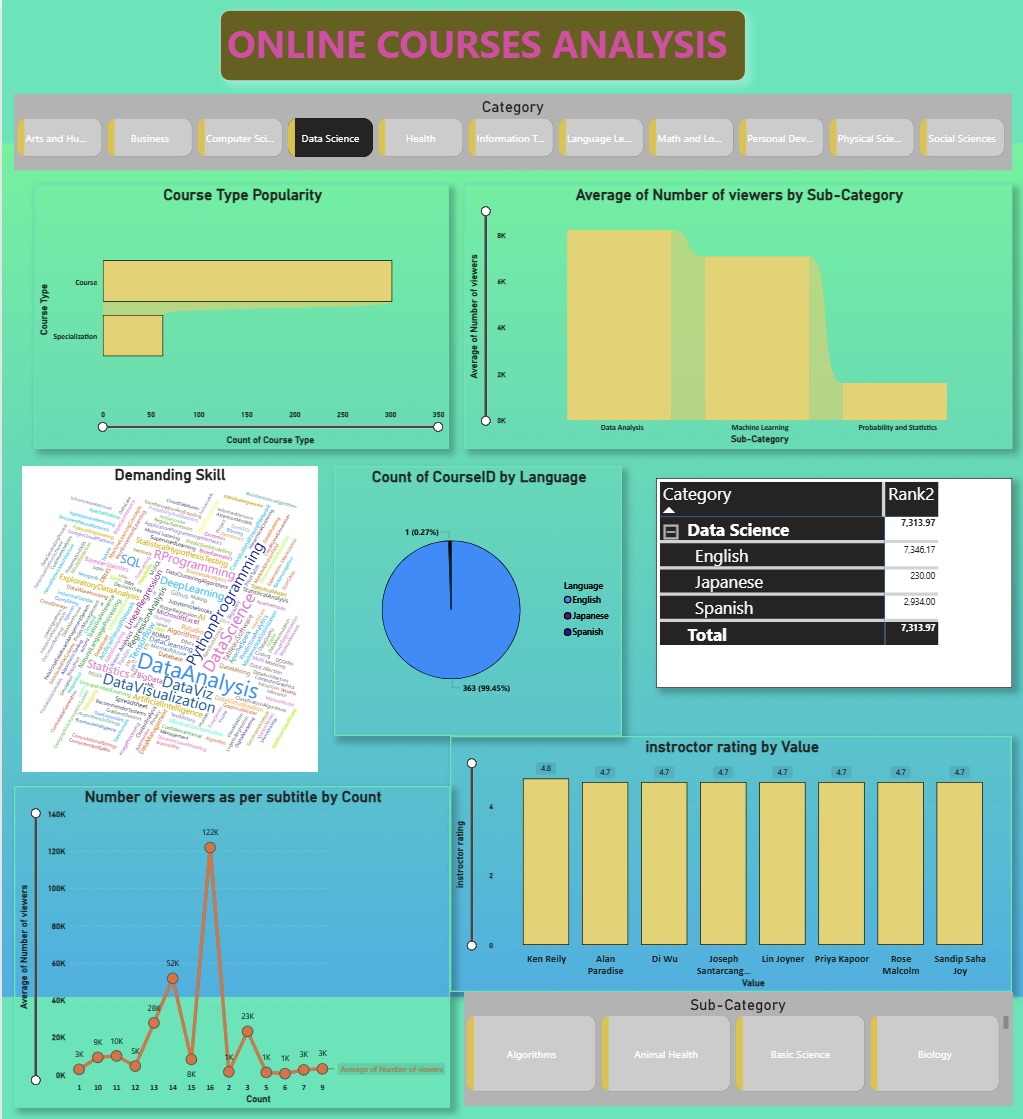

What the dashboard file says about the page in this screenshot:
{"tool":"powerbi","page":{"name":"Page 1","canvas":[1600,1800],"ordinal":0},"visuals":[{"type":"textbox","box":[339.1,17.4,821.7,110.9],"z":0},{"type":"advancedSlicerVisual","fields":{"Values":["Online_Courses.Category"]},"box":[18.9,148.6,1559.5,118.9],"z":1000},{"type":"barChart","title":"Course Type Popularity","fields":{"Y":["CountNonNull(Online_Courses.Course Type)"],"Category":["Online_Courses.Course Type"]},"box":[48.6,291.9,648.6,413.5],"z":2000},{"type":"columnChart","fields":{"Category":["Online_Courses.Sub-Category","Online_Courses.Language"],"Y":["Avg(Online_Courses.Number of viewers)"]},"box":[721.6,291.9,856.8,413.5],"z":3000},{"type":"WordCloud1447959067750","title":"Demanding Skill","fields":{"Category":["Online_Courses.Skills"]},"box":[31.2,731.2,462.5,478.1],"z":4000},{"type":"pieChart","fields":{"Category":["Online_Courses.Language"],"Y":["CountNonNull(Online_Courses.CourseID)"]},"box":[518.8,731.2,450,421.9],"z":5000},{"type":"pivotTable","fields":{"Rows":["Online_Courses.Category","Online_Courses.Language"],"Values":["Online_Courses.Rank2"]},"box":[1021.9,750,556.2,328.1],"z":5001},{"type":"lineChart","title":" Number of viewers as per subtitle by Count","fields":{"Category":["Online_Courses.Count"],"Y":["Avg(Online_Courses.Number of viewers)"]},"box":[18.8,1231.2,681.2,503.1],"z":5002},{"type":"clusteredColumnChart","fields":{"Category":["Online_Courses (2).Value"],"Y":["Online_Courses (2).instroctor rating"]},"box":[700,1153.1,878.1,400],"z":5003},{"type":"advancedSlicerVisual","fields":{"Values":["Online_Courses (2).Sub-Category"]},"box":[721.9,1553.1,856.2,178.1],"z":5004}]}

Visuals, with their boxes in screenshot pixels (x1, y1, x2, y2), scaled from the page's 1600x1800 canvas onto the 1023x1119 screenshot:
textbox: (217, 11, 742, 80)
advancedSlicerVisual - Online_Courses.Category: (12, 92, 1009, 166)
"Course Type Popularity" barChart: (31, 181, 446, 439)
columnChart - Online_Courses.Sub-Category x Online_Courses.Language: (461, 181, 1009, 439)
"Demanding Skill" WordCloud1447959067750: (20, 455, 316, 752)
pieChart - Online_Courses.Language x CountNonNull(Online_Courses.CourseID): (332, 455, 619, 717)
pivotTable - Online_Courses.Category x Online_Courses.Language: (653, 466, 1009, 670)
" Number of viewers as per subtitle by Count" lineChart: (12, 765, 448, 1078)
clusteredColumnChart - Online_Courses (2).Value x Online_Courses (2).instroctor rating: (448, 717, 1009, 966)
advancedSlicerVisual - Online_Courses (2).Sub-Category: (462, 966, 1009, 1076)
